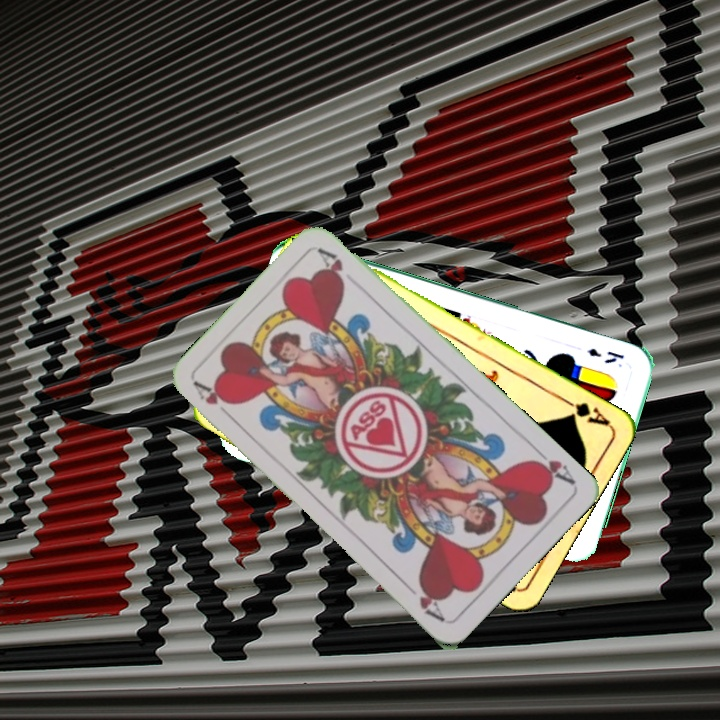EK: (583, 344, 627, 366)
GA: (557, 394, 612, 429)
HA: (526, 443, 578, 487), (190, 378, 238, 424)
